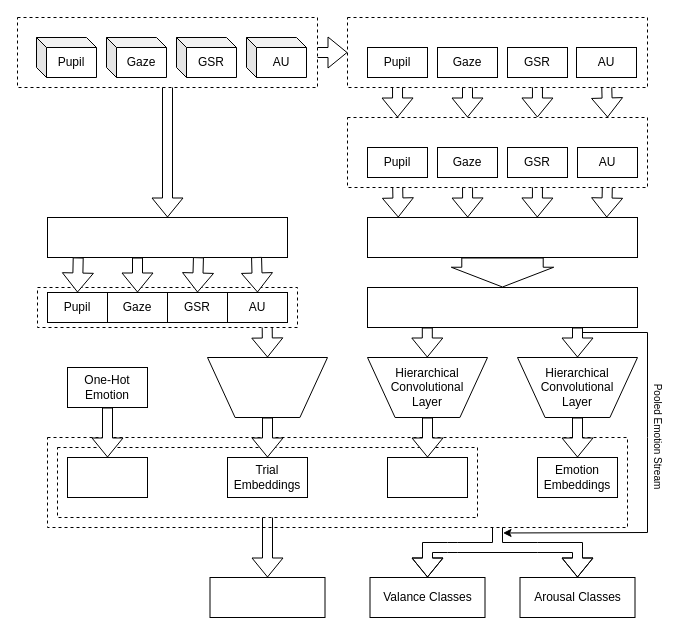
Image size: 680x635. Some labels were removed from this diagram. Here are the shapes that lost their labels. From the top down, the box of each, then its label:
(16, 16, 318, 88): Modality Inputs
(346, 16, 648, 88): Modality Specific Transformers
(346, 116, 648, 188): Modality Specific Embeddings
(46, 216, 288, 258): Trial-Level Features Extractor
(366, 216, 638, 258): Intra-Modality Transformer
(366, 286, 638, 328): Two Stream Attention Layers
(206, 356, 328, 418): Trial MLP
(66, 456, 148, 498): Stimulus Embeddings
(56, 446, 478, 518): Personality Predictor
(46, 436, 628, 528): Emotion Classifier
(386, 456, 468, 498): Personality Embeddings
(209, 576, 325, 618): Personality Scores
